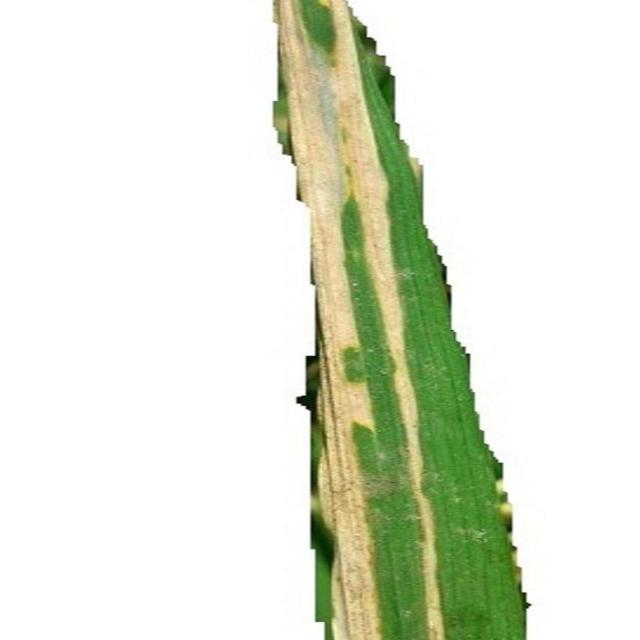leaf blight: (270, 3, 464, 633)
